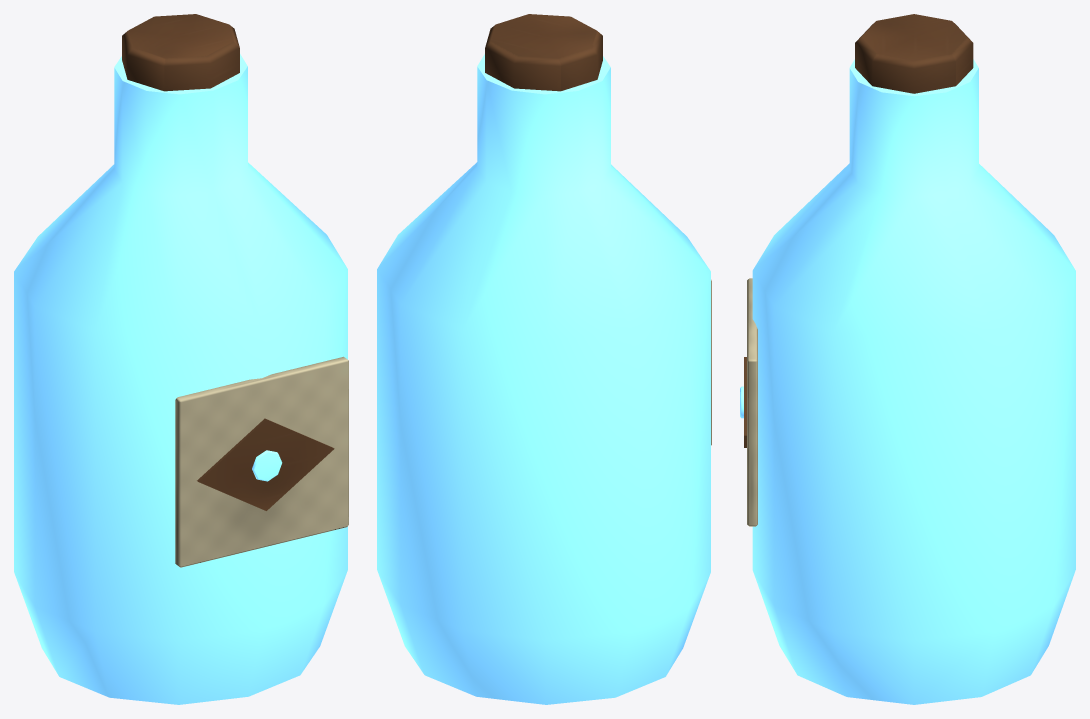
Rendered from Hold_PotionBottle.fbx.
3 views of the same model, side by side, from view 1: azimuth 30°, elevation 25°; view 2: azimuth 150°, elevation 25°; view 3: azimuth 270°, elevation 25° (orthographic).
Visible parts, largest first — view 1: Hold_PotionBottle; view 2: Hold_PotionBottle; view 3: Hold_PotionBottle.
Boxes of the visible parts, bbox=[...] form: Hold_PotionBottle: bbox=[14, 14, 348, 704]; Hold_PotionBottle: bbox=[377, 14, 711, 704]; Hold_PotionBottle: bbox=[740, 14, 1075, 704].
Size of the model in its own units: 0.06 by 0.12 by 0.06.
Materials: 2 (1 with a texture image).
